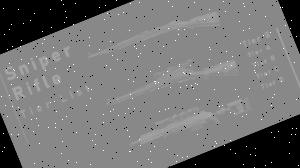rifle: (88, 31, 247, 130), (112, 79, 262, 166), (73, 0, 228, 78)
sniper: (93, 33, 247, 130), (79, 0, 229, 80), (119, 85, 261, 166)
